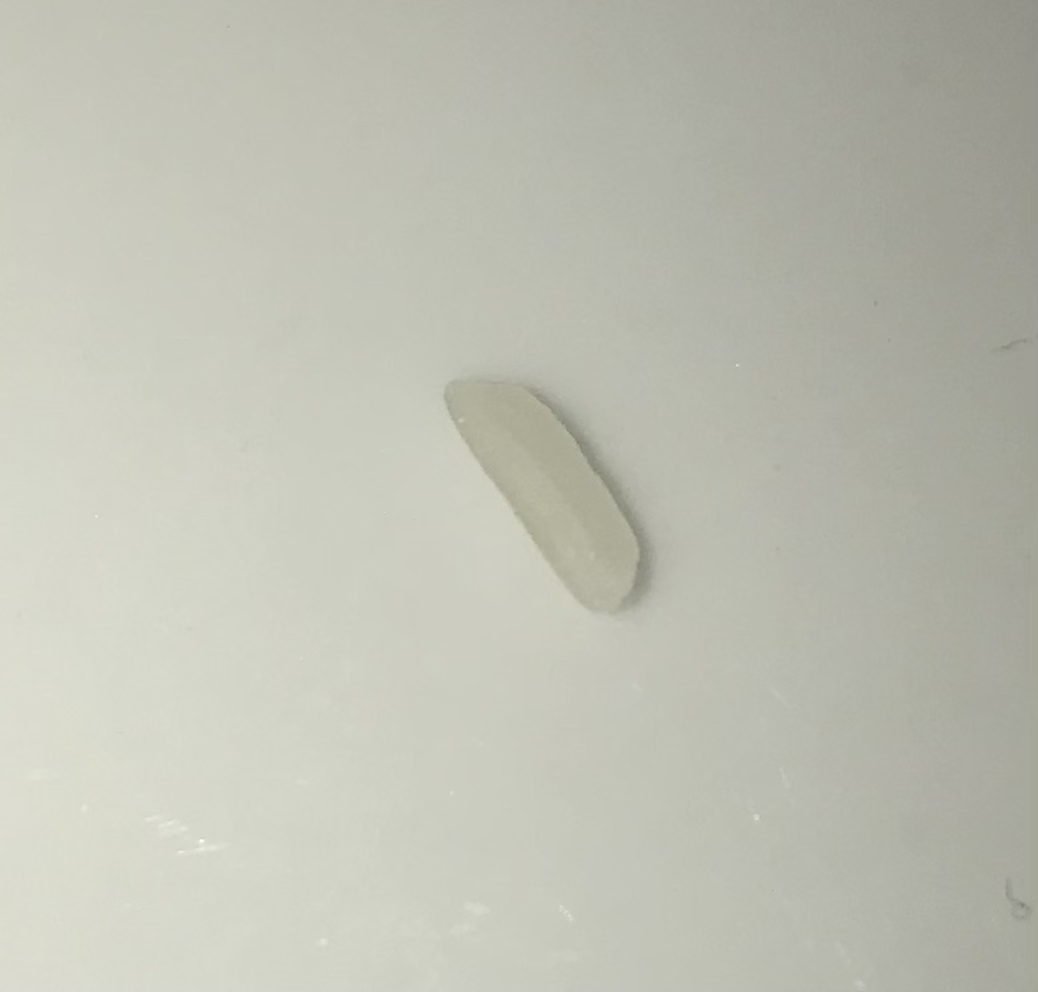Gao Thom Go Cong: (421, 365, 665, 628)
